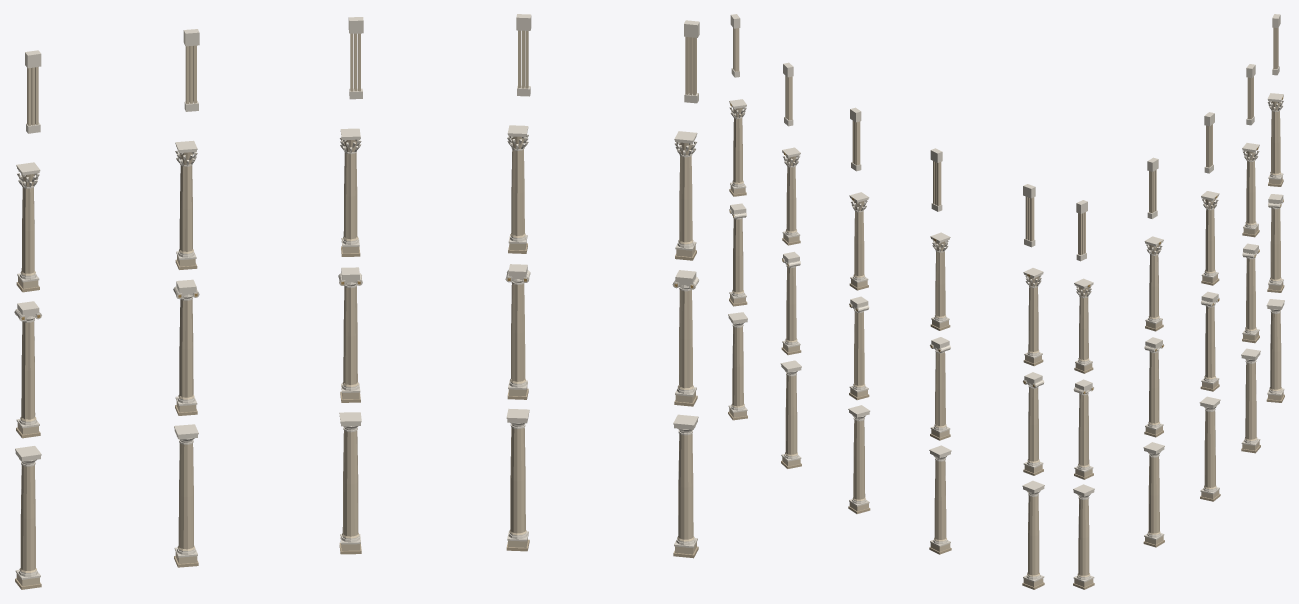
Rendered from COL_ColumnOrders_O7.glb.
The picture shows the model from 3 angles, left to right: view 1: azimuth 30°, elevation 25°; view 2: azimuth 150°, elevation 25°; view 3: azimuth 270°, elevation 25°; orthographic projection. The views are drawn at different scales.
Parts seen in each view (by area): view 1: COL_ColumnOrders_O7; view 2: COL_ColumnOrders_O7; view 3: COL_ColumnOrders_O7.
Boxes of the visible parts, left/top/right/bottom form: COL_ColumnOrders_O7: left=14, top=14, right=699, bottom=589; COL_ColumnOrders_O7: left=728, top=14, right=1044, bottom=589; COL_ColumnOrders_O7: left=1073, top=14, right=1284, bottom=589.
Bounding box in the file's own units: 63.24 × 58.2 × 29.07.
